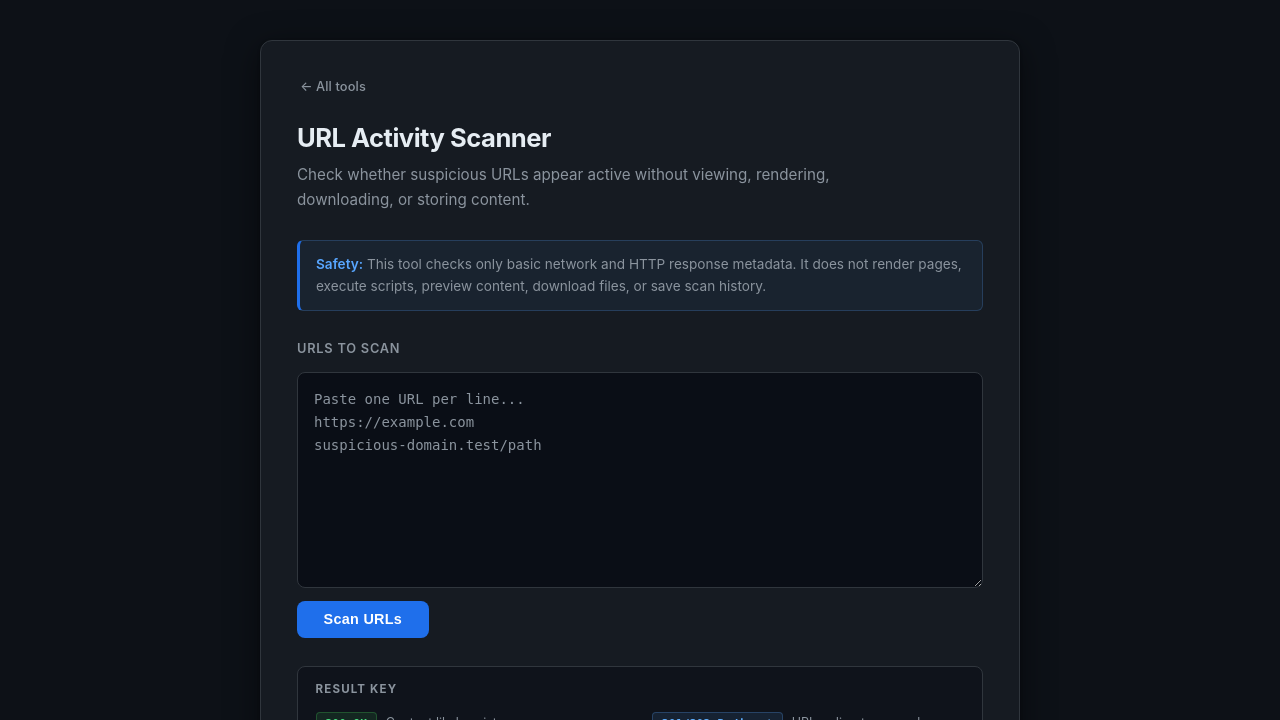
Test case: R2 — classification summary › counts a 100-result batch with a missing classification and sums to 100
Replace the text in the text box with "https://host-0.example.test/" at (640, 480), box [297,372,983,588]
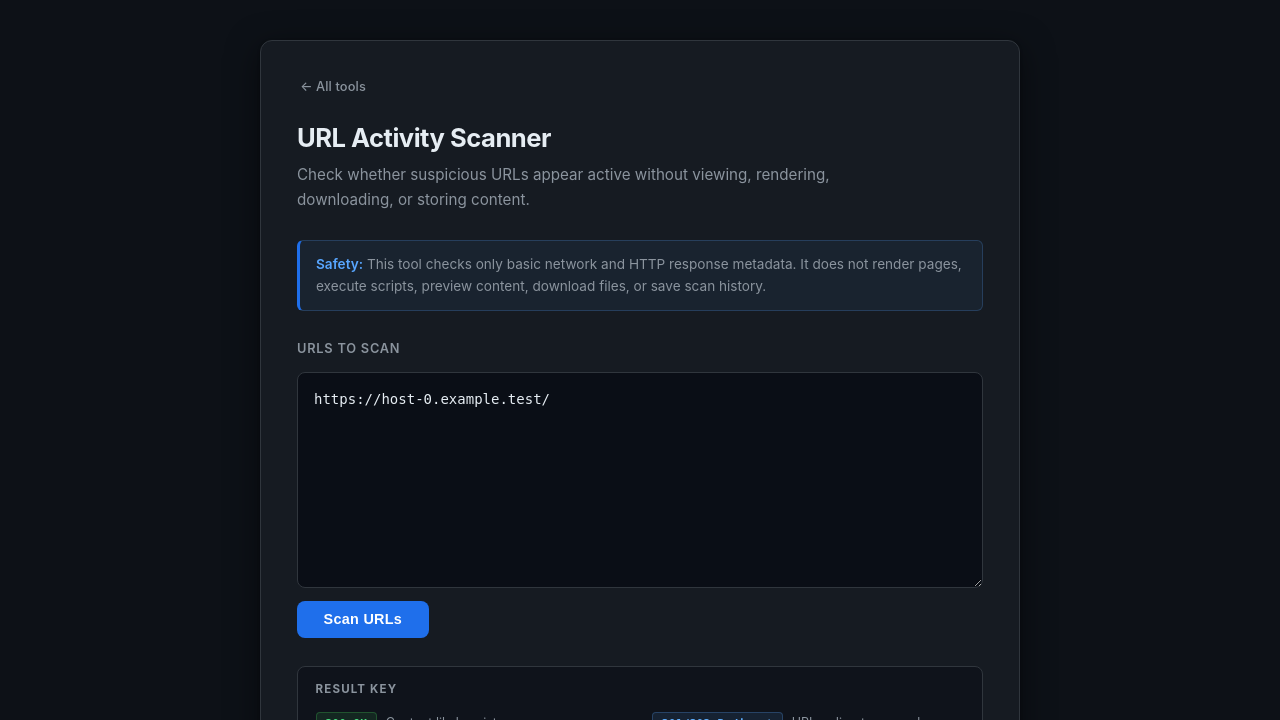
Click the button "Scan URLs" at (363, 619), box [297,601,429,638]
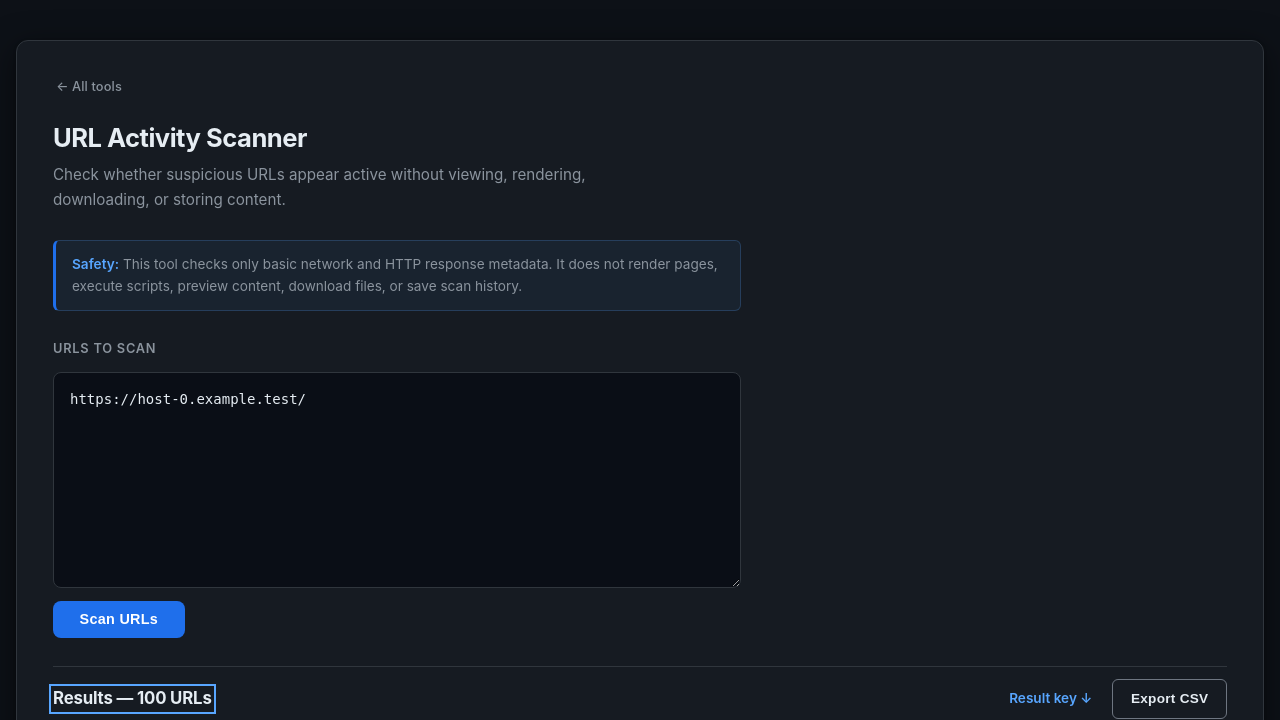
Expected: the heading "Results — 100 URLs" is shown, [53,688,212,710]
